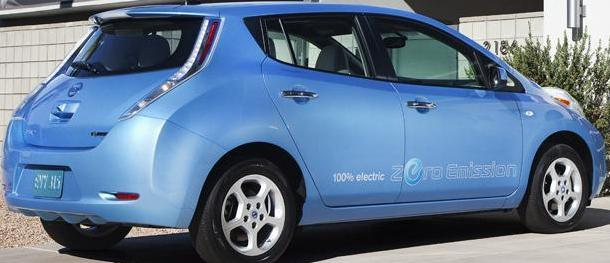back_view: (9, 75, 223, 243)
backlight: (120, 20, 225, 120)
side_glass: (275, 20, 509, 72)
